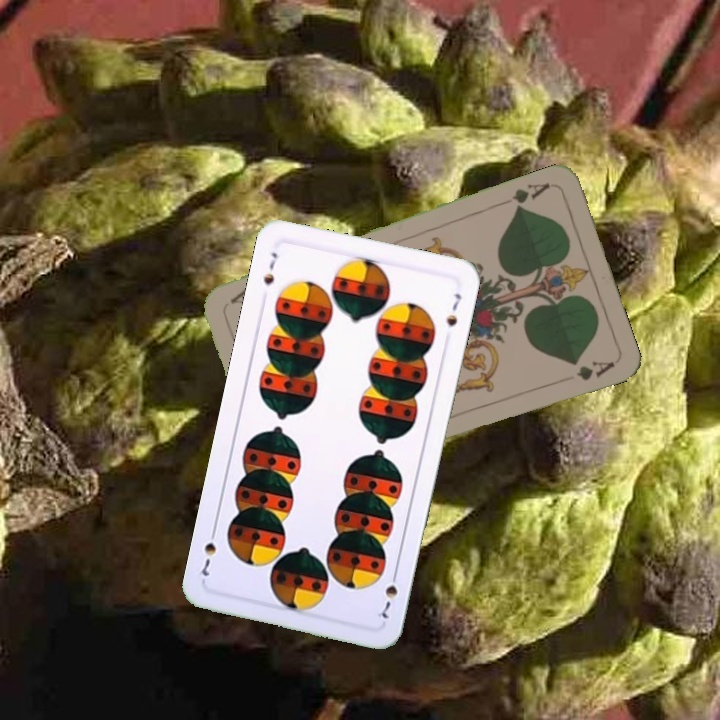GA: (508, 179, 553, 213)
S7: (373, 566, 400, 622), (259, 248, 280, 287)
